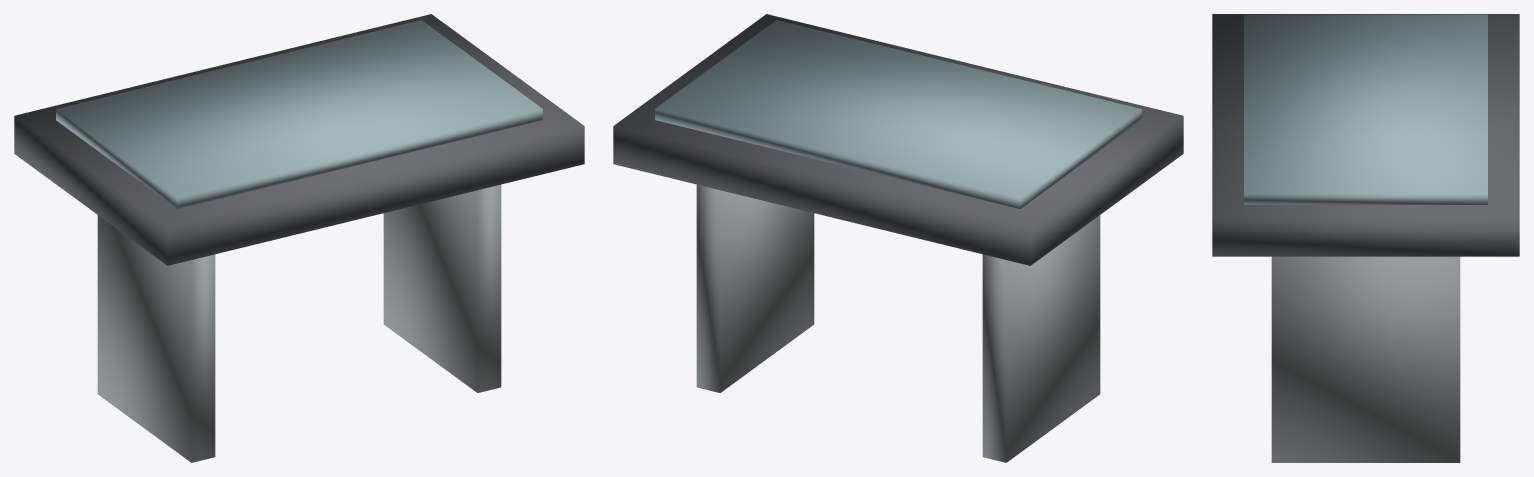
The model's file is light_table__squat.glb.
3 renders of one model, left to right at view 1: azimuth 30°, elevation 25°; view 2: azimuth 150°, elevation 25°; view 3: azimuth 270°, elevation 25°, orthographic.
Parts seen in each view (by area): view 1: world; view 2: world; view 3: world.
Part boxes in pixels (<box>): world: <box>14,14,584,462</box>; world: <box>613,14,1183,462</box>; world: <box>1212,14,1519,462</box>.
Bounding box in the file's own units: 1.15 × 0.7455 × 0.7344.
